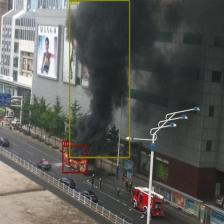fire: (62, 145, 88, 173)
smoke: (68, 0, 130, 158)
